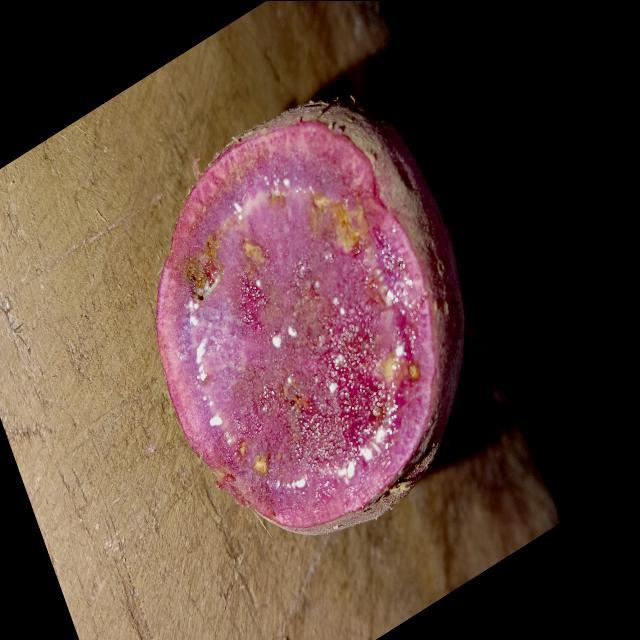Sick Sweet Potato_Tuber Rot: (156, 100, 464, 533)
